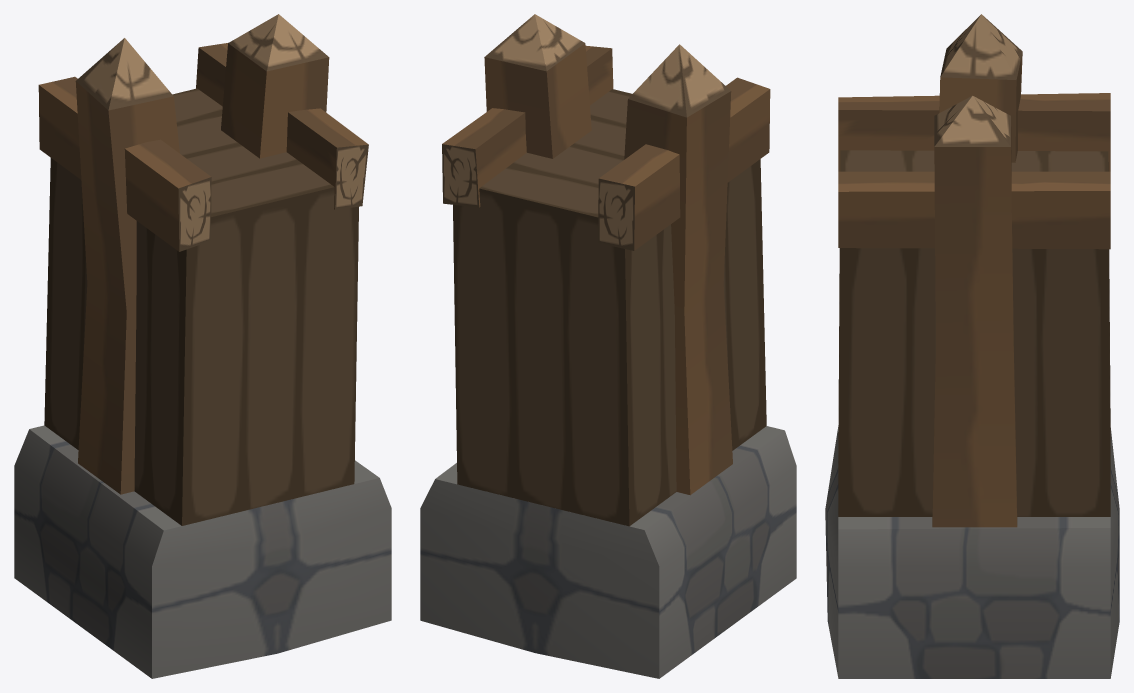
Rendered from Wall_A_1x1.FBX.
3 renders of one model, left to right at view 1: azimuth 30°, elevation 25°; view 2: azimuth 150°, elevation 25°; view 3: azimuth 270°, elevation 25°, orthographic.
Parts seen in each view (by area): view 1: Wall_A_1x1; view 2: Wall_A_1x1; view 3: Wall_A_1x1.
Part boxes in pixels (bbox=[...]): Wall_A_1x1: bbox=[14, 14, 391, 678]; Wall_A_1x1: bbox=[420, 14, 796, 678]; Wall_A_1x1: bbox=[825, 14, 1119, 678].
Bounding box in the file's own units: 201 × 463 × 216.
